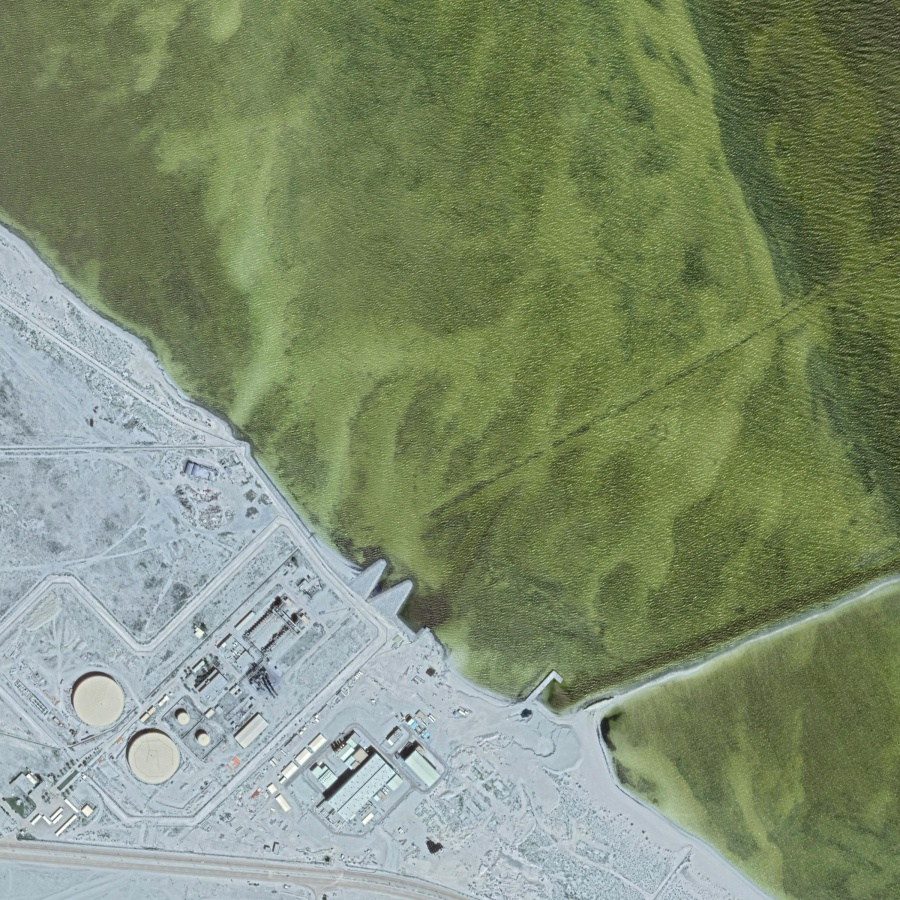PowerPlant: (50, 566, 455, 853)
